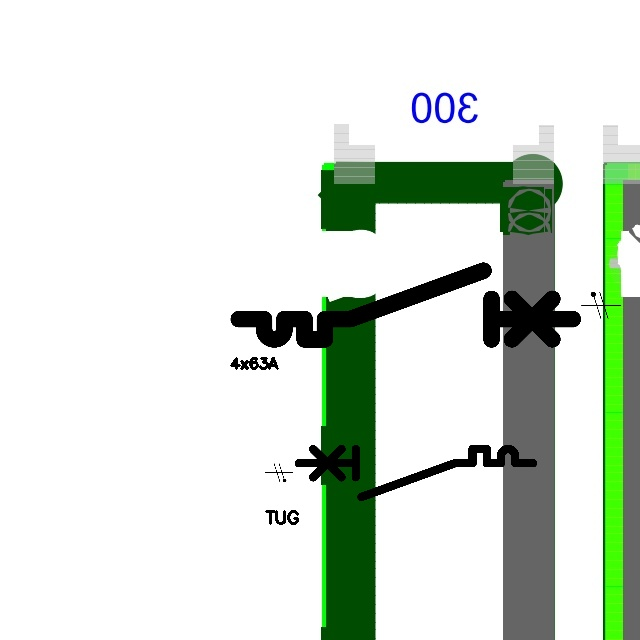interruptor_termomagnetico: (230, 262, 581, 348), (292, 443, 538, 503)
